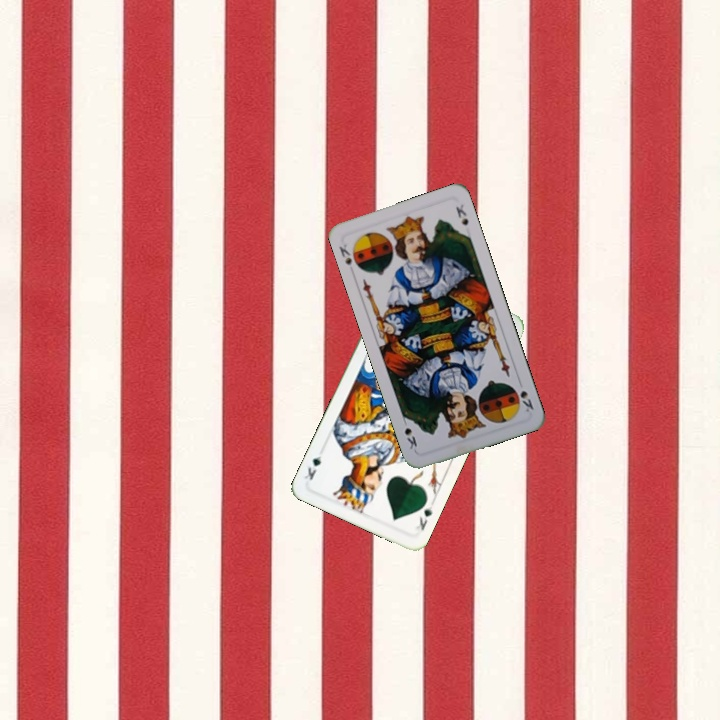GK: (412, 502, 435, 533)
SK: (514, 376, 536, 415), (335, 240, 354, 268)
